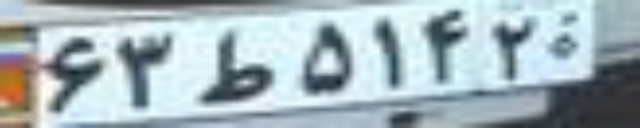0: (543, 31, 582, 59)
1: (371, 16, 398, 87)
2: (492, 19, 535, 81)
3: (121, 32, 172, 108)
4: (421, 8, 470, 83)
5: (294, 21, 356, 94)
6: (41, 36, 103, 112)
taa: (196, 29, 275, 103)
